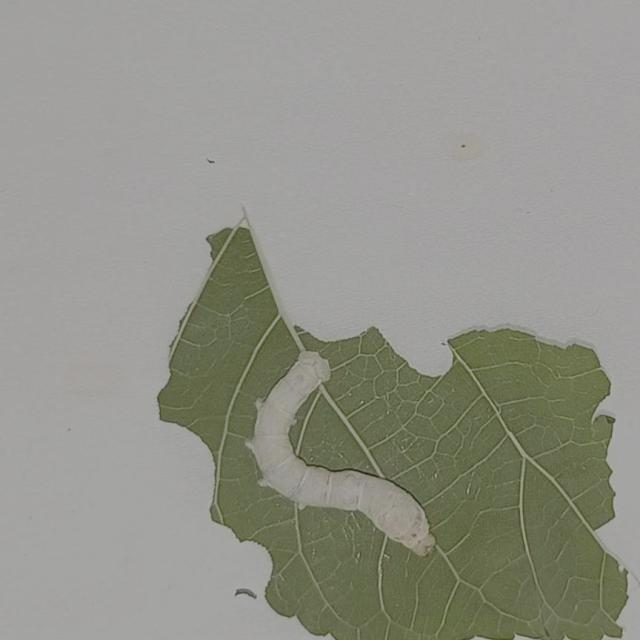Healthy: (232, 332, 466, 579)
